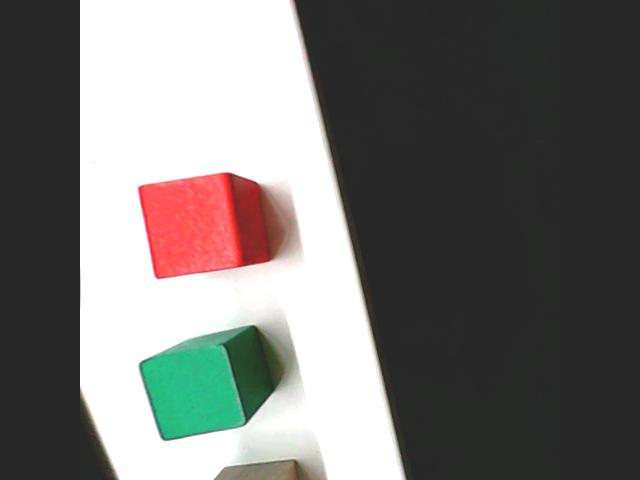green_box: (135, 322, 278, 443)
raw_box: (186, 452, 314, 480)
red_box: (132, 168, 274, 282)
